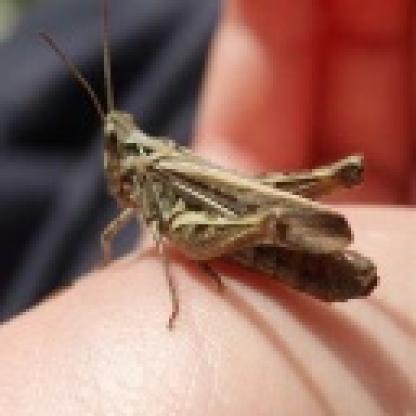grasshopper: (50, 32, 381, 328)
